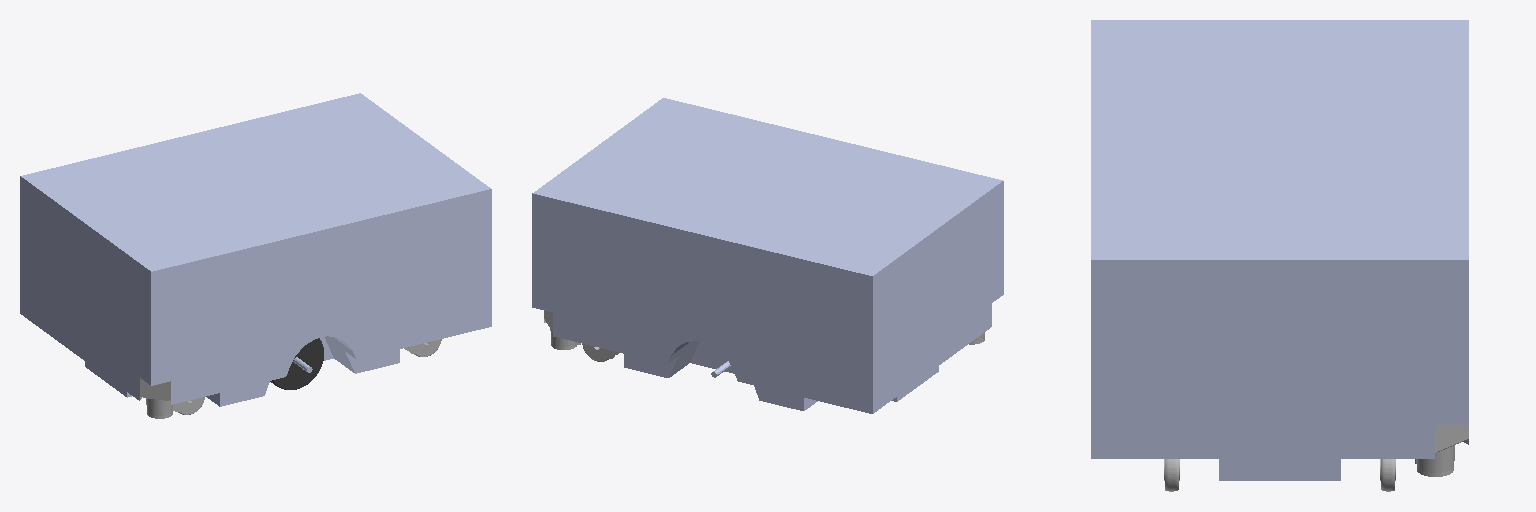
The robot description file, URDF, robot "robot_assisted_cleaning_solution":
<?xml version="1.0" encoding="utf-8"?>
<!-- This URDF was automatically created by SolidWorks to URDF Exporter! Originally created by [author] ([email redacted]) 
     Commit Version:   Build Version: 1.5.7585.28670
     For more information, please see http://wiki.ros.org/sw_urdf_exporter -->
<robot
  name="robot_assisted_cleaning_solution">
  <link
    name="base_link">
    <inertial>
      <origin
        xyz="-0.000913386239851091 -2.54764905186757E-06 0.0112927831007752"
        rpy="0 0 0" />
      <mass
        value="43.66289" />
      <inertia
        ixx="0.794216412051149"
        ixy="-0.000219442594284593"
        ixz="0.00035981237829047"
        iyy="1.53053604086592"
        iyz="-0.000149715728017838"
        izz="1.83362160851237" />
    </inertial>
    <visual>
      <origin
        xyz="0 0 0"
        rpy="0 0 0" />
      <geometry>
        <mesh
          filename="package://robot_assisted_cleaning_solution/meshes/base_link.STL" />
      </geometry>
      <material
        name="">
        <color
          rgba="0.792156862745098 0.819607843137255 0.933333333333333 1" />
      </material>
    </visual>
    <collision>
      <origin
        xyz="0 0 0"
        rpy="0 0 0" />
      <geometry>
        <mesh
          filename="package://robot_assisted_cleaning_solution/meshes/base_link.STL" />
      </geometry>
    </collision>
  </link>
  <link
    name="wheel_1">
    <inertial>
      <origin
        xyz="-0.000913386239851091 -2.54764905186757E-06 0.0112927831007752"
        rpy="0 0 0" />
      <mass
        value="43.66289" />
      <inertia
        ixx="0.794216412051149"
        ixy="-0.000219442594284593"
        ixz="0.00035981237829047"
        iyy="1.53053604086592"
        iyz="-0.000149715728017838"
        izz="1.83362160851237" />
    </inertial>
    <visual>
      <origin
        xyz="0 0 0"
        rpy="0 0 0" />
      <geometry>
        <mesh
          filename="package://robot_assisted_cleaning_solution/meshes/wheel_1.STL" />
      </geometry>
      <material
        name="">
        <color
          rgba="0.298039215686275 0.298039215686275 0.298039215686275 1" />
      </material>
    </visual>
    <collision>
      <origin
        xyz="0 0 0"
        rpy="0 0 0" />
      <geometry>
        <mesh
          filename="package://robot_assisted_cleaning_solution/meshes/wheel_1.STL" />
      </geometry>
    </collision>
  </link>
  <joint
    name="wheel_joint_1"
    type="continuous">
    <origin
      xyz="-5.78290400675118E-05 0.114675012827827 -0.122971466594445"
      rpy="0 0 0" />
    <parent
      link="base_link" />
    <child
      link="wheel_1" />
    <axis
      xyz="0 1 0" />
  </joint>
  <link
    name="wheel_2">
    <inertial>
      <origin
        xyz="-0.000913386239851091 -2.54764905186757E-06 0.0112927831007752"
        rpy="0 0 0" />
      <mass
        value="43.66289" />
      <inertia
        ixx="0.794216412051149"
        ixy="-0.000219442594284593"
        ixz="0.00035981237829047"
        iyy="1.53053604086592"
        iyz="-0.000149715728017838"
        izz="1.83362160851237" />
    </inertial>
    <visual>
      <origin
        xyz="0 0 0"
        rpy="0 0 0" />
      <geometry>
        <mesh
          filename="package://robot_assisted_cleaning_solution/meshes/wheel_2.STL" />
      </geometry>
      <material
        name="">
        <color
          rgba="0.298039215686275 0.298039215686275 0.298039215686275 1" />
      </material>
    </visual>
    <collision>
      <origin
        xyz="0 0 0"
        rpy="0 0 0" />
      <geometry>
        <mesh
          filename="package://robot_assisted_cleaning_solution/meshes/wheel_2.STL" />
      </geometry>
    </collision>
  </link>
  <joint
    name="wheel_joint_2"
    type="continuous">
    <origin
      xyz="-5.78290400674879E-05 -0.114614309053521 -0.122971466594445"
      rpy="0 0 0" />
    <parent
      link="base_link" />
    <child
      link="wheel_2" />
    <axis
      xyz="0 -1 0" />
  </joint>
  <link
    name="caster_1">
    <inertial>
      <origin
        xyz="-0.000913386239851091 -2.54764905186757E-06 0.0112927831007752"
        rpy="0 0 0" />
      <mass
        value="43.66289" />
      <inertia
        ixx="0.794216412051149"
        ixy="-0.000219442594284593"
        ixz="0.00035981237829047"
        iyy="1.53053604086592"
        iyz="-0.000149715728017838"
        izz="1.83362160851237" />
    </inertial>
    <visual>
      <origin
        xyz="0 0 0"
        rpy="0 0 0" />
      <geometry>
        <mesh
          filename="package://robot_assisted_cleaning_solution/meshes/caster_1.STL" />
      </geometry>
      <material
        name="">
        <color
          rgba="0.752941176470588 0.752941176470588 0.752941176470588 1" />
      </material>
    </visual>
    <collision>
      <origin
        xyz="0 0 0"
        rpy="0 0 0" />
      <geometry>
        <mesh
          filename="package://robot_assisted_cleaning_solution/meshes/caster_1.STL" />
      </geometry>
    </collision>
  </link>
  <joint
    name="caster_joint_1"
    type="continuous">
    <origin
      xyz="-0.208635525832463 -0.114614309053521 -0.105971545183645"
      rpy="0 0 0" />
    <parent
      link="base_link" />
    <child
      link="caster_1" />
    <axis
      xyz="0 0 -1" />
  </joint>
  <link
    name="caster_2">
    <inertial>
      <origin
        xyz="-0.000913386239851091 -2.54764905186757E-06 0.0112927831007752"
        rpy="0 0 0" />
      <mass
        value="43.66289" />
      <inertia
        ixx="0.794216412051149"
        ixy="-0.000219442594284593"
        ixz="0.00035981237829047"
        iyy="1.53053604086592"
        iyz="-0.000149715728017838"
        izz="1.83362160851237" />
    </inertial>
    <visual>
      <origin
        xyz="0 0 0"
        rpy="0 0 0" />
      <geometry>
        <mesh
          filename="package://robot_assisted_cleaning_solution/meshes/caster_2.STL" />
      </geometry>
      <material
        name="">
        <color
          rgba="0.752941176470588 0.752941176470588 0.752941176470588 1" />
      </material>
    </visual>
    <collision>
      <origin
        xyz="0 0 0"
        rpy="0 0 0" />
      <geometry>
        <mesh
          filename="package://robot_assisted_cleaning_solution/meshes/caster_2.STL" />
      </geometry>
    </collision>
  </link>
  <joint
    name="caster_joint_2"
    type="continuous">
    <origin
      xyz="0.208521761692918 -0.114614309053521 -0.105971545183645"
      rpy="0 0 0" />
    <parent
      link="base_link" />
    <child
      link="caster_2" />
    <axis
      xyz="0 0 -1" />
  </joint>
  <link
    name="caster_3">
    <inertial>
      <origin
        xyz="-0.000913386239851091 -2.54764905186757E-06 0.0112927831007752"
        rpy="0 0 0" />
      <mass
        value="43.66289" />
      <inertia
        ixx="0.794216412051149"
        ixy="-0.000219442594284593"
        ixz="0.00035981237829047"
        iyy="1.53053604086592"
        iyz="-0.000149715728017838"
        izz="1.83362160851237" />
    </inertial>
    <visual>
      <origin
        xyz="0 0 0"
        rpy="0 0 0" />
      <geometry>
        <mesh
          filename="package://robot_assisted_cleaning_solution/meshes/caster_3.STL" />
      </geometry>
      <material
        name="">
        <color
          rgba="0.752941176470588 0.752941176470588 0.752941176470588 1" />
      </material>
    </visual>
    <collision>
      <origin
        xyz="0 0 0"
        rpy="0 0 0" />
      <geometry>
        <mesh
          filename="package://robot_assisted_cleaning_solution/meshes/caster_3.STL" />
      </geometry>
    </collision>
  </link>
  <joint
    name="caster_joint_3"
    type="continuous">
    <origin
      xyz="0.208521761692915 0.114675012827827 -0.105971545183645"
      rpy="0 0 0" />
    <parent
      link="base_link" />
    <child
      link="caster_3" />
    <axis
      xyz="0 0 -1" />
  </joint>
  <link
    name="caster_4">
    <inertial>
      <origin
        xyz="-0.000913386239851091 -2.54764905186757E-06 0.0112927831007752"
        rpy="0 0 0" />
      <mass
        value="43.66289" />
      <inertia
        ixx="0.794216412051149"
        ixy="-0.000219442594284593"
        ixz="0.00035981237829047"
        iyy="1.53053604086592"
        iyz="-0.000149715728017838"
        izz="1.83362160851237" />
    </inertial>
    <visual>
      <origin
        xyz="0 0 0"
        rpy="0 0 0" />
      <geometry>
        <mesh
          filename="package://robot_assisted_cleaning_solution/meshes/caster_4.STL" />
      </geometry>
      <material
        name="">
        <color
          rgba="0.752941176470588 0.752941176470588 0.752941176470588 1" />
      </material>
    </visual>
    <collision>
      <origin
        xyz="0 0 0"
        rpy="0 0 0" />
      <geometry>
        <mesh
          filename="package://robot_assisted_cleaning_solution/meshes/caster_4.STL" />
      </geometry>
    </collision>
  </link>
  <joint
    name="caster_joint_4"
    type="continuous">
    <origin
      xyz="-0.208635525832461 0.114675012827827 -0.105971545183645"
      rpy="0 0 0" />
    <parent
      link="base_link" />
    <child
      link="caster_4" />
    <axis
      xyz="0 0 -1" />
  </joint>
  <link
    name="lidar_1">
    <inertial>
      <origin
        xyz="-0.000913386239851091 -2.54764905186757E-06 0.0112927831007752"
        rpy="0 0 0" />
      <mass
        value="43.66289" />
      <inertia
        ixx="0.794216412051149"
        ixy="-0.000219442594284593"
        ixz="0.00035981237829047"
        iyy="1.53053604086592"
        iyz="-0.000149715728017838"
        izz="1.83362160851237" />
    </inertial>
    <visual>
      <origin
        xyz="0 0 0"
        rpy="0 0 0" />
      <geometry>
        <mesh
          filename="package://robot_assisted_cleaning_solution/meshes/lidar_1.STL" />
      </geometry>
      <material
        name="">
        <color
          rgba="0.749019607843137 0.749019607843137 0.749019607843137 1" />
      </material>
    </visual>
    <collision>
      <origin
        xyz="0 0 0"
        rpy="0 0 0" />
      <geometry>
        <mesh
          filename="package://robot_assisted_cleaning_solution/meshes/lidar_1.STL" />
      </geometry>
    </collision>
  </link>
  <joint
    name="lidar_joint_1"
    type="fixed">
    <origin
      xyz="-0.300056882069774 -0.199969648112847 -0.105471545183645"
      rpy="0 0 0" />
    <parent
      link="base_link" />
    <child
      link="lidar_1" />
    <axis
      xyz="0 0 0" />
  </joint>
  <link
    name="lidar_2">
    <inertial>
      <origin
        xyz="-0.000913386239851091 -2.54764905186757E-06 0.0112927831007752"
        rpy="0 0 0" />
      <mass
        value="43.66289" />
      <inertia
        ixx="0.794216412051149"
        ixy="-0.000219442594284593"
        ixz="0.00035981237829047"
        iyy="1.53053604086592"
        iyz="-0.000149715728017838"
        izz="1.83362160851237" />
    </inertial>
    <visual>
      <origin
        xyz="0 0 0"
        rpy="0 0 0" />
      <geometry>
        <mesh
          filename="package://robot_assisted_cleaning_solution/meshes/lidar_2.STL" />
      </geometry>
      <material
        name="">
        <color
          rgba="0.749019607843137 0.749019607843137 0.749019607843137 1" />
      </material>
    </visual>
    <collision>
      <origin
        xyz="0 0 0"
        rpy="0 0 0" />
      <geometry>
        <mesh
          filename="package://robot_assisted_cleaning_solution/meshes/lidar_2.STL" />
      </geometry>
    </collision>
  </link>
  <joint
    name="lidar_joint_2"
    type="fixed">
    <origin
      xyz="0.299943117930226 0.200030351887153 -0.105471545183645"
      rpy="0 0 0" />
    <parent
      link="base_link" />
    <child
      link="lidar_2" />
    <axis
      xyz="0 0 0" />
  </joint>
  <link
    name="ir_1">
    <inertial>
      <origin
        xyz="-0.000913386239851091 -2.54764905186757E-06 0.0112927831007752"
        rpy="0 0 0" />
      <mass
        value="43.66289" />
      <inertia
        ixx="0.794216412051149"
        ixy="-0.000219442594284593"
        ixz="0.00035981237829047"
        iyy="1.53053604086592"
        iyz="-0.000149715728017838"
        izz="1.83362160851237" />
    </inertial>
    <visual>
      <origin
        xyz="0 0 0"
        rpy="0 0 0" />
      <geometry>
        <mesh
          filename="package://robot_assisted_cleaning_solution/meshes/ir_1.STL" />
      </geometry>
      <material
        name="">
        <color
          rgba="0.501960784313725 0.501960784313725 0.501960784313725 1" />
      </material>
    </visual>
    <collision>
      <origin
        xyz="0 0 0"
        rpy="0 0 0" />
      <geometry>
        <mesh
          filename="package://robot_assisted_cleaning_solution/meshes/ir_1.STL" />
      </geometry>
    </collision>
  </link>
  <joint
    name="ir_joint_1"
    type="fixed">
    <origin
      xyz="-0.264701543010446 0.00163035188715408 -0.112971545183645"
      rpy="3.14159265358979 0 3.14159265358979" />
    <parent
      link="base_link" />
    <child
      link="ir_1" />
    <axis
      xyz="0 0 0" />
  </joint>
  <link
    name="ir_2">
    <inertial>
      <origin
        xyz="-0.000913386239851091 -2.54764905186757E-06 0.0112927831007752"
        rpy="0 0 0" />
      <mass
        value="43.66289" />
      <inertia
        ixx="0.794216412051149"
        ixy="-0.000219442594284593"
        ixz="0.00035981237829047"
        iyy="1.53053604086592"
        iyz="-0.000149715728017838"
        izz="1.83362160851237" />
    </inertial>
    <visual>
      <origin
        xyz="0 0 0"
        rpy="0 0 0" />
      <geometry>
        <mesh
          filename="package://robot_assisted_cleaning_solution/meshes/ir_2.STL" />
      </geometry>
      <material
        name="">
        <color
          rgba="0.501960784313725 0.501960784313725 0.501960784313725 1" />
      </material>
    </visual>
    <collision>
      <origin
        xyz="0 0 0"
        rpy="0 0 0" />
      <geometry>
        <mesh
          filename="package://robot_assisted_cleaning_solution/meshes/ir_2.STL" />
      </geometry>
    </collision>
  </link>
  <joint
    name="ir_joint_2"
    type="fixed">
    <origin
      xyz="0.2645877788709 -0.00156964811284664 -0.112971545183645"
      rpy="0 0 0" />
    <parent
      link="base_link" />
    <child
      link="ir_2" />
    <axis
      xyz="0 0 0" />
  </joint>
  <link
    name="us_1">
    <inertial>
      <origin
        xyz="-0.000913386239851091 -2.54764905186757E-06 0.0112927831007752"
        rpy="0 0 0" />
      <mass
        value="43.66289" />
      <inertia
        ixx="0.794216412051149"
        ixy="-0.000219442594284593"
        ixz="0.00035981237829047"
        iyy="1.53053604086592"
        iyz="-0.000149715728017838"
        izz="1.83362160851237" />
    </inertial>
    <visual>
      <origin
        xyz="0 0 0"
        rpy="0 0 0" />
      <geometry>
        <mesh
          filename="package://robot_assisted_cleaning_solution/meshes/us_1.STL" />
      </geometry>
      <material
        name="">
        <color
          rgba="0.792156862745098 0.819607843137255 0.933333333333333 1" />
      </material>
    </visual>
    <collision>
      <origin
        xyz="0 0 0"
        rpy="0 0 0" />
      <geometry>
        <mesh
          filename="package://robot_assisted_cleaning_solution/meshes/us_1.STL" />
      </geometry>
    </collision>
  </link>
  <joint
    name="us_joint_1"
    type="fixed">
    <origin
      xyz="-0.134541543010445 -0.164614309053521 -0.112971545183645"
      rpy="3.14159265358979 0 -1.5707963267949" />
    <parent
      link="base_link" />
    <child
      link="us_1" />
    <axis
      xyz="0 0 0" />
  </joint>
  <link
    name="us_2">
    <inertial>
      <origin
        xyz="-0.000913386239851091 -2.54764905186757E-06 0.0112927831007752"
        rpy="0 0 0" />
      <mass
        value="43.66289" />
      <inertia
        ixx="0.794216412051149"
        ixy="-0.000219442594284593"
        ixz="0.00035981237829047"
        iyy="1.53053604086592"
        iyz="-0.000149715728017838"
        izz="1.83362160851237" />
    </inertial>
    <visual>
      <origin
        xyz="0 0 0"
        rpy="0 0 0" />
      <geometry>
        <mesh
          filename="package://robot_assisted_cleaning_solution/meshes/us_2.STL" />
      </geometry>
      <material
        name="">
        <color
          rgba="0.792156862745098 0.819607843137255 0.933333333333333 1" />
      </material>
    </visual>
    <collision>
      <origin
        xyz="0 0 0"
        rpy="0 0 0" />
      <geometry>
        <mesh
          filename="package://robot_assisted_cleaning_solution/meshes/us_2.STL" />
      </geometry>
    </collision>
  </link>
  <joint
    name="us_joint_2"
    type="fixed">
    <origin
      xyz="0.109027778870899 -0.164614309053521 -0.112971545183645"
      rpy="3.14159265358979 0 -1.5707963267949" />
    <parent
      link="base_link" />
    <child
      link="us_2" />
    <axis
      xyz="0 0 0" />
  </joint>
</robot>

--- Facts derived from the render (not from the file) ---
The picture shows the robot from 3 angles, left to right: view 1: azimuth 30°, elevation 25°; view 2: azimuth 150°, elevation 25°; view 3: azimuth 270°, elevation 25°; orthographic projection.
Model robot_assisted_cleaning_solution with 13 links and 12 joints (6 continuous, 6 fixed), rooted at base_link, posed all joints at 0.
Visible links, largest first — view 1: base_link, wheel_2, lidar_1; view 2: base_link; view 3: base_link, lidar_2.
Boxes of the visible links, x1,y1,x2,y2 form: base_link: (20, 93, 491, 406); wheel_2: (270, 338, 323, 389); lidar_1: (140, 378, 172, 418); base_link: (532, 98, 1003, 413); base_link: (1091, 20, 1468, 480); lidar_2: (1415, 425, 1468, 476).
Size in the robot's own frame: 0.6 by 0.4 by 0.3 metres.
11 mesh visuals loaded from 13 distinct referenced files (11 binary STL); not drawn: 2 (reference not matched to a file when rendering).